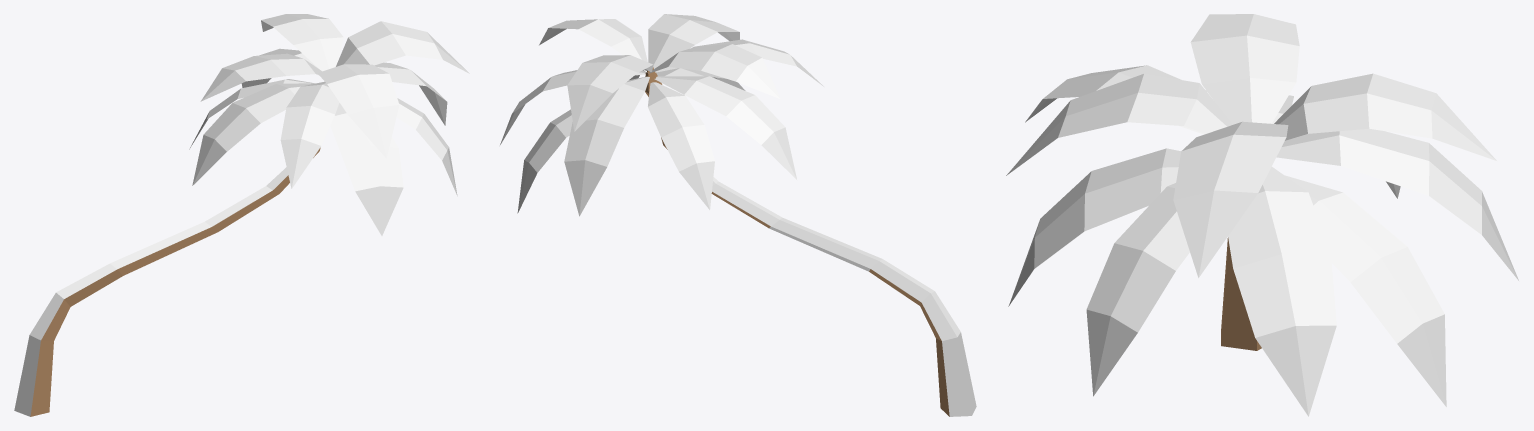
The model's file is Palm_Tree_OneSided_l_Snow_05_LOD.fbx.
The picture shows the model from 3 angles, left to right: view 1: azimuth 30°, elevation 25°; view 2: azimuth 150°, elevation 25°; view 3: azimuth 270°, elevation 25°; orthographic projection. The views are drawn at different scales.
Visible parts, largest first — view 1: Palm_Tree_OneSided_l_Snow_05_LOD0; view 2: Palm_Tree_OneSided_l_Snow_05_LOD0; view 3: Palm_Tree_OneSided_l_Snow_05_LOD0.
Boxes of the visible parts, x1,y1,x2,y2 form: Palm_Tree_OneSided_l_Snow_05_LOD0: (14,14,469,416); Palm_Tree_OneSided_l_Snow_05_LOD0: (500,14,976,416); Palm_Tree_OneSided_l_Snow_05_LOD0: (1006,14,1518,416).
Size of what is drawn, in the model's own units: 752 by 470 by 434.
